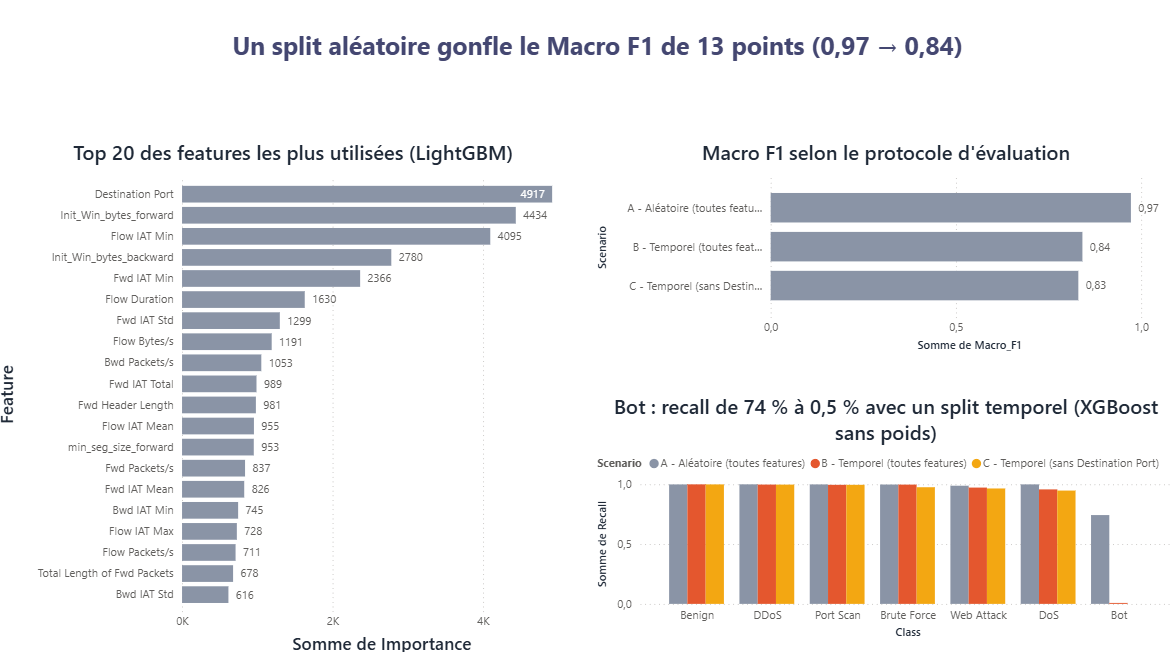

The page's visual inventory and layout, read from the dashboard file:
{"tool":"powerbi","page":{"name":"Robustesse & features","canvas":[1280,720],"ordinal":3},"visuals":[{"type":"clusteredBarChart","title":"Macro F1 selon le protocole d''évaluation","fields":{"Category":["leakage_robustness_check.Scenario"],"Y":["Sum(leakage_robustness_check.Macro_F1)"]},"box":[646.1,160,633.9,234.9],"z":0},{"type":"clusteredColumnChart","title":"Bot : recall de 74 % à 0,5 % avec un split temporel (XGBoost sans poids)","fields":{"Category":["leakage_per_class_recall.Class"],"Series":["leakage_per_class_recall.Scenario"],"Y":["Sum(leakage_per_class_recall.Recall)"]},"box":[646.1,433.4,633.9,271.4],"z":1000},{"type":"clusteredBarChart","title":"Top 20 des features les plus utilisées (LightGBM)","fields":{"Category":["feature_importance.Feature"],"Y":["Sum(feature_importance.Importance)"]},"box":[0,160,646.1,561],"z":2000},{"type":"textbox","box":[22.3,0,1257.7,160],"z":3000}]}

Visuals, with their boxes in screenshot pixels (x1, y1, x2, y2), scaled from the page's 1280x720 canvas onto the 1171x652 screenshot:
"Macro F1 selon le protocole d''évaluation" clusteredBarChart: detection(591, 145, 1170, 358)
"Bot : recall de 74 % à 0,5 % avec un split temporel (XGBoost sans poids)" clusteredColumnChart: detection(591, 392, 1170, 638)
"Top 20 des features les plus utilisées (LightGBM)" clusteredBarChart: detection(0, 145, 591, 651)
textbox: detection(20, 0, 1170, 145)
